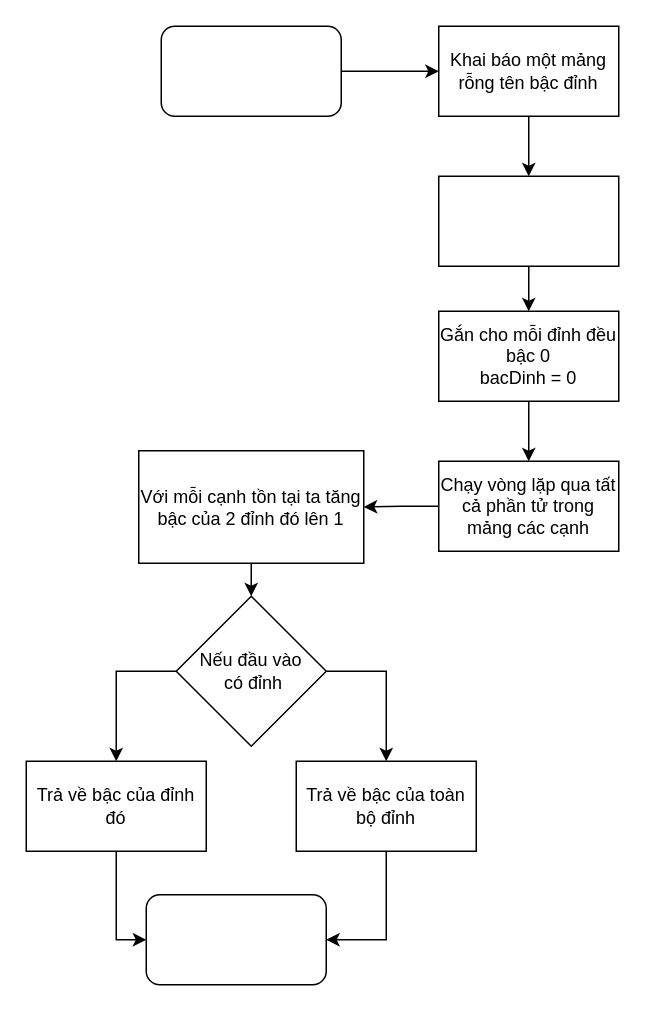
The diagram is 645 pixels wide and 1011 high, and some of its shapes have lost their labels. Each missing label, with the centre of its shape:
Bắt đầu đếm: pixel 250 70
Chạy vòng lặp qua tất cả phần tử trong mảng các đỉnh: pixel 528 220
Kết thúc đếm: pixel 235 939
